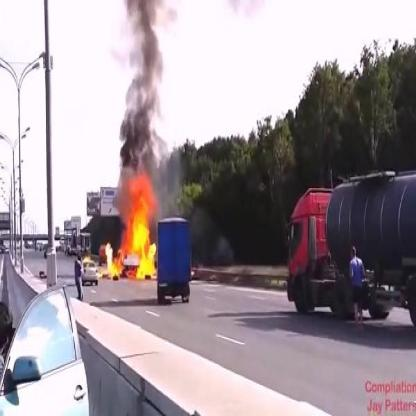fire: (104, 171, 157, 283), (82, 254, 92, 262)
